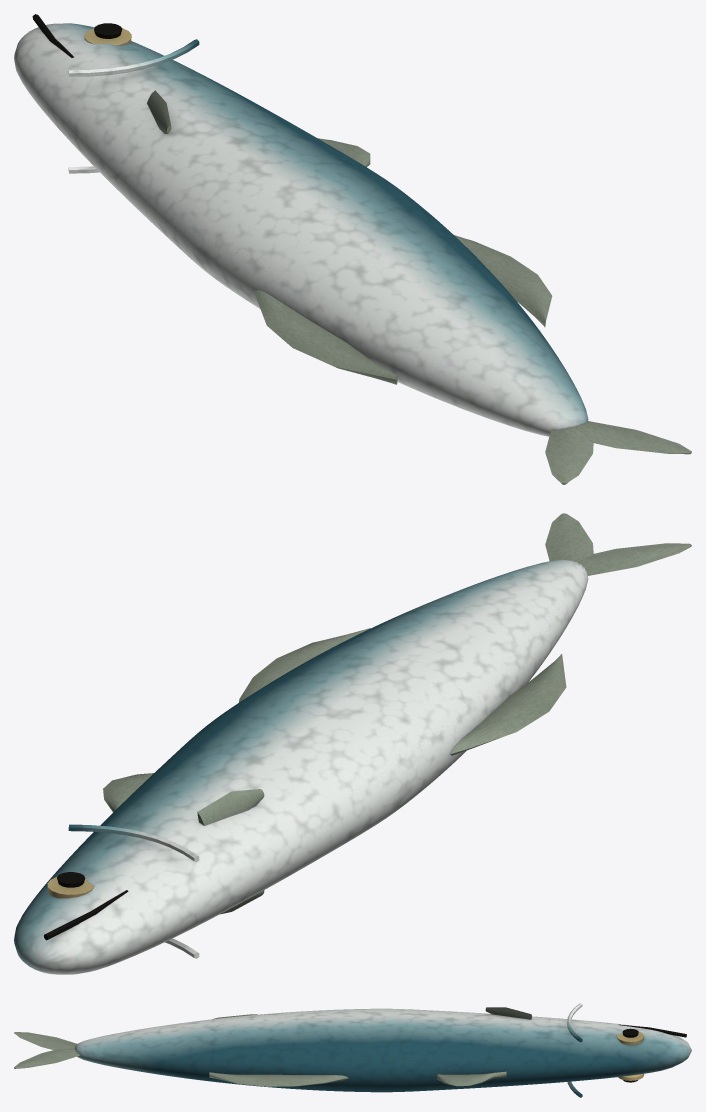
Rendered from fish_lufar.glb.
3 views of the same model, one above another, from view 1: azimuth 30°, elevation 25°; view 2: azimuth 150°, elevation 25°; view 3: azimuth 270°, elevation 25° (orthographic). The views are drawn at different scales.
Visible parts, largest first — view 1: fish_lufar; view 2: fish_lufar; view 3: fish_lufar.
Part boxes in pixels (x1,y1,x2,y2): fish_lufar: (14, 14, 691, 484); fish_lufar: (14, 513, 691, 974); fish_lufar: (14, 1003, 691, 1097).
Size of the model in its own units: 0.1382 by 0.0611 by 0.547.
1 material, 1 textured.
